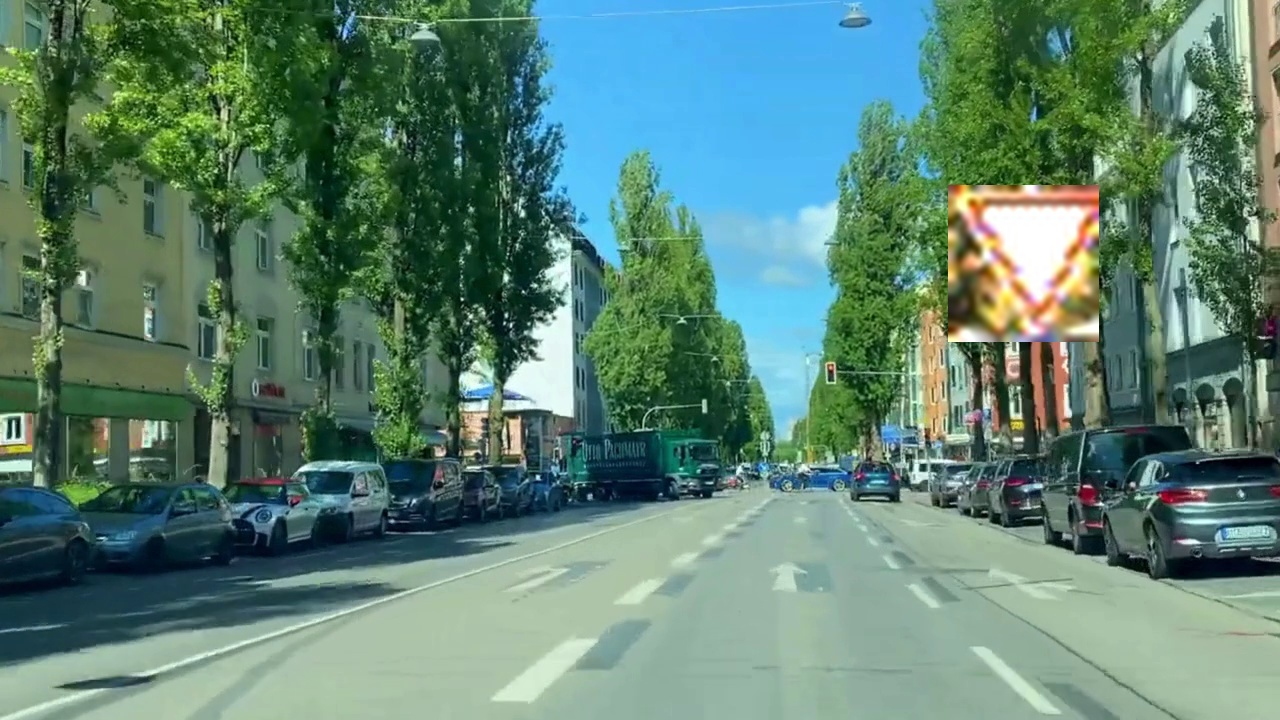Yield: (948, 185, 1099, 342)
